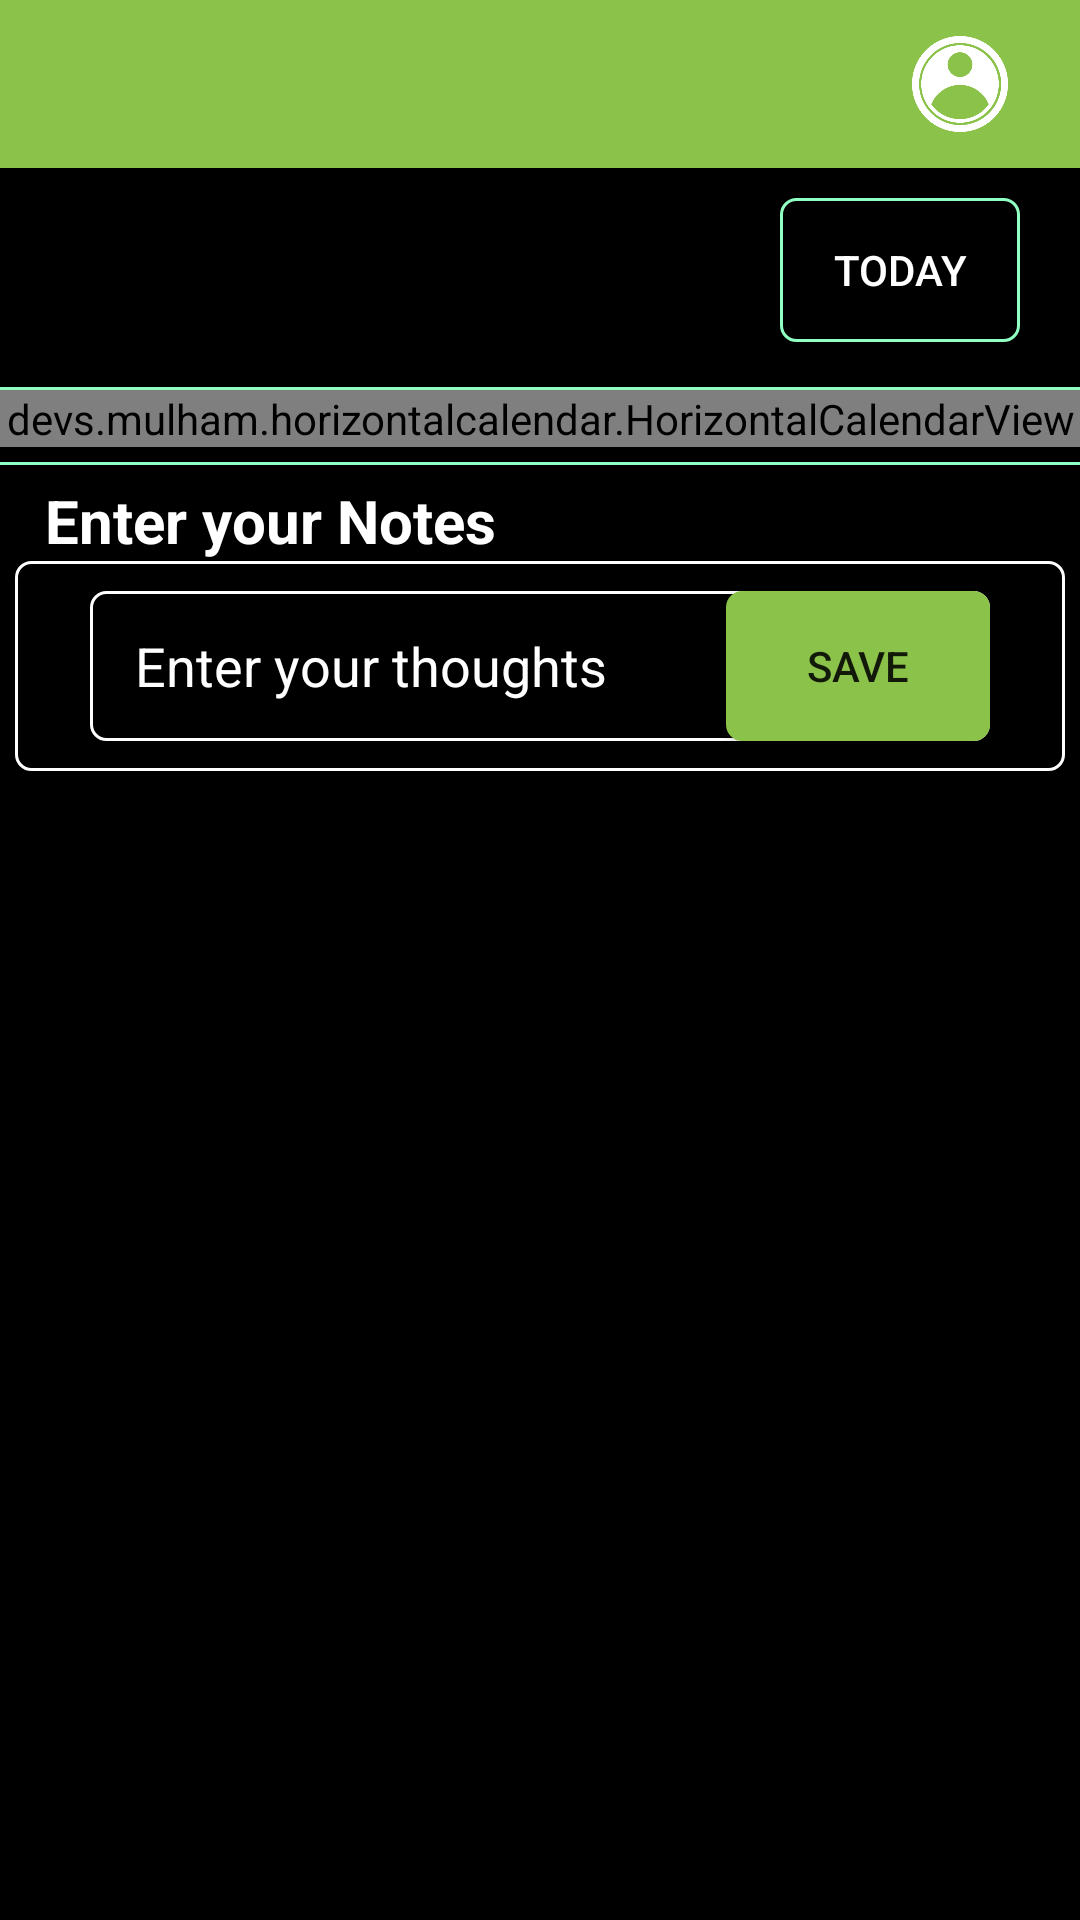

Icons on this 1080 x 1920 Android screen, each with its box as [x1=x1, y1=y1, x2=x2, y2=y2]:
userima: [x1=912, y1=36, x2=1008, y2=132]
